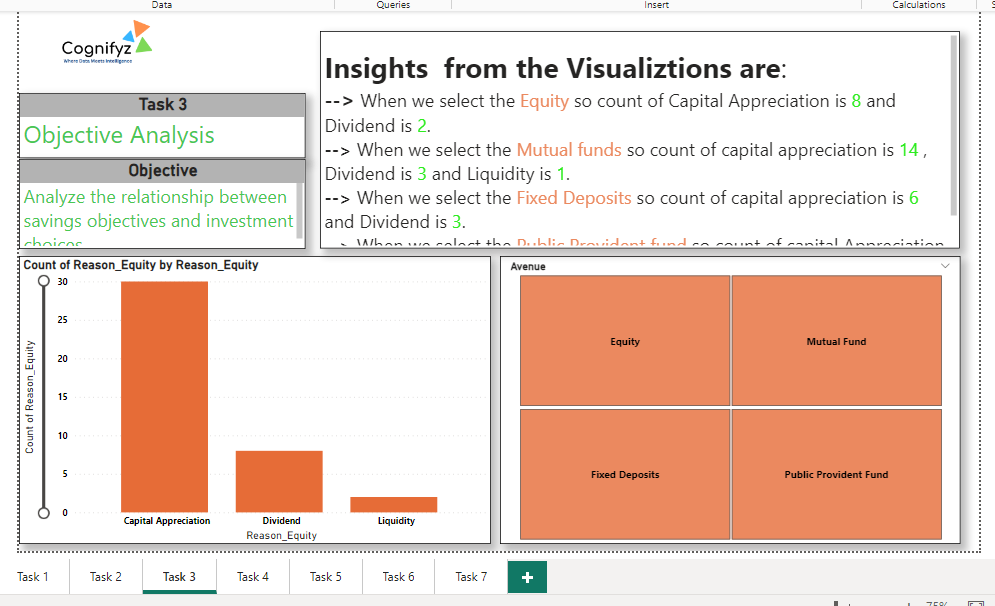

The page's visual inventory and layout, read from the dashboard file:
{"tool":"powerbi","page":{"name":"Task 3","canvas":[1280,720],"ordinal":2},"visuals":[{"type":"textbox","title":"Task 3","box":[0,109.9,382.4,87],"z":0},{"type":"textbox","title":"Objective","box":[0,196.9,382.4,119.9],"z":1000},{"type":"lineStackedColumnComboChart","fields":{"Category":["Data_set 2.Reason_Equity"],"Y":["CountNonNull(Data_set 2.Reason_Equity)"]},"box":[0,326.8,629.3,383.9],"z":2000},{"type":"slicer","fields":{"Values":["Data_set 2.Avenue"]},"box":[640.7,326.8,613.6,383.9],"z":3000},{"type":"textbox","box":[401,27.1,853.3,289.7],"z":4000},{"type":"image","box":[0,0,231.2,91.3],"z":5000}]}

Visuals, with their boxes on the page's 1280x720 design canvas (x1, y1, x2, y2). These are canvas units, not pixel positions in the 995x606 screenshot, which may show the page scaled, cropped or inside an application window:
"Task 3" textbox: 0 110 382 197
"Objective" textbox: 0 197 382 317
lineStackedColumnComboChart - Data_set 2.Reason_Equity x CountNonNull(Data_set 2.Reason_Equity): 0 327 629 711
slicer - Data_set 2.Avenue: 641 327 1254 711
textbox: 401 27 1254 317
image: 0 0 231 91
